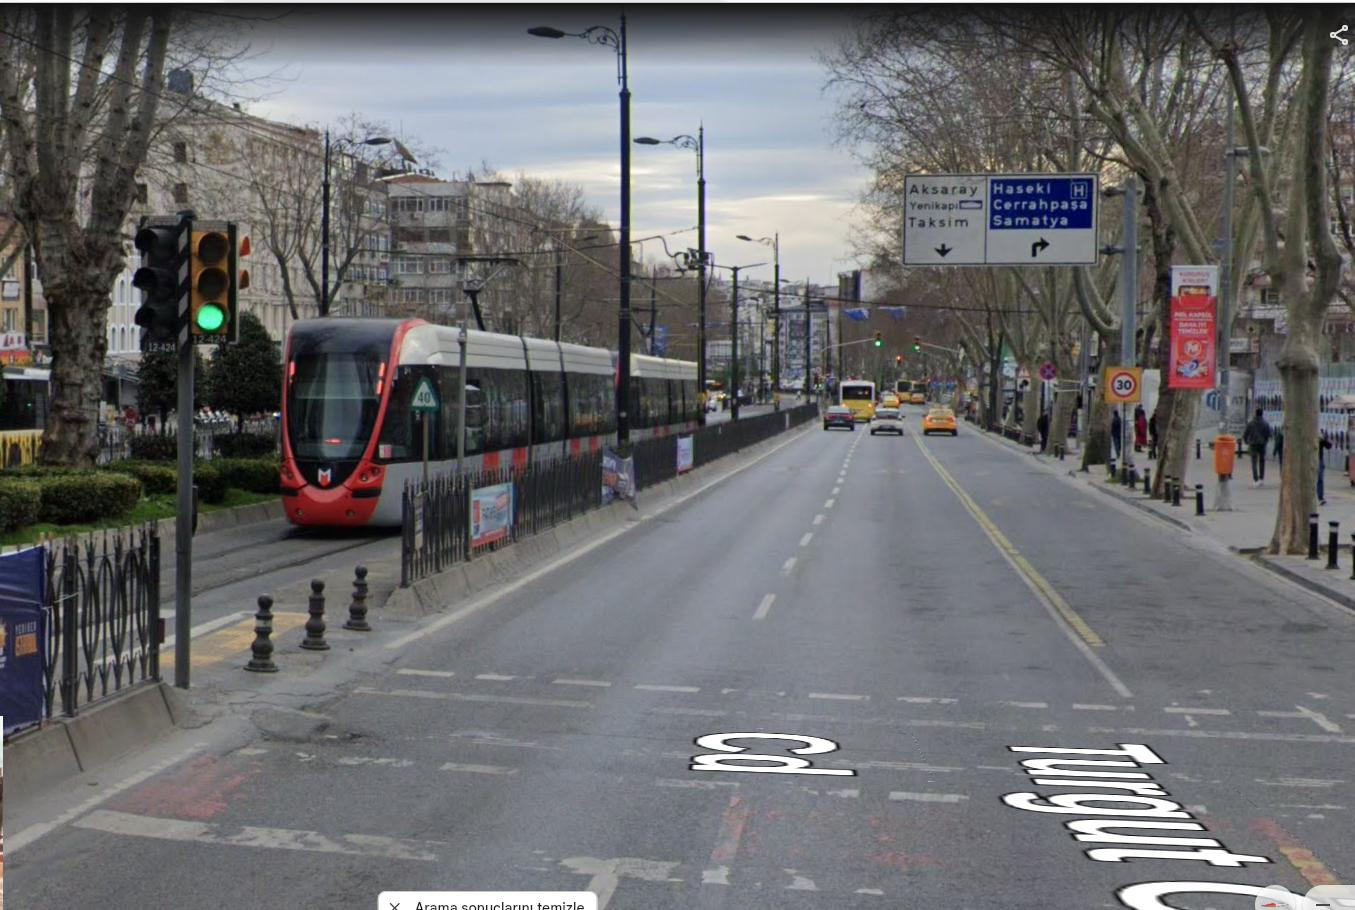greenlight: (192, 225, 237, 334), (876, 330, 882, 347), (914, 335, 920, 352)
